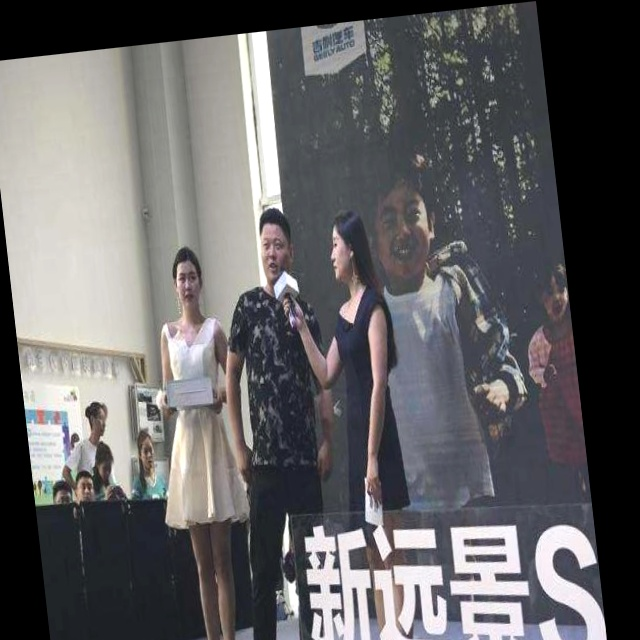Sin_Casco_Mascarrilla: (325, 208, 373, 290), (254, 205, 296, 287), (168, 244, 207, 312)
